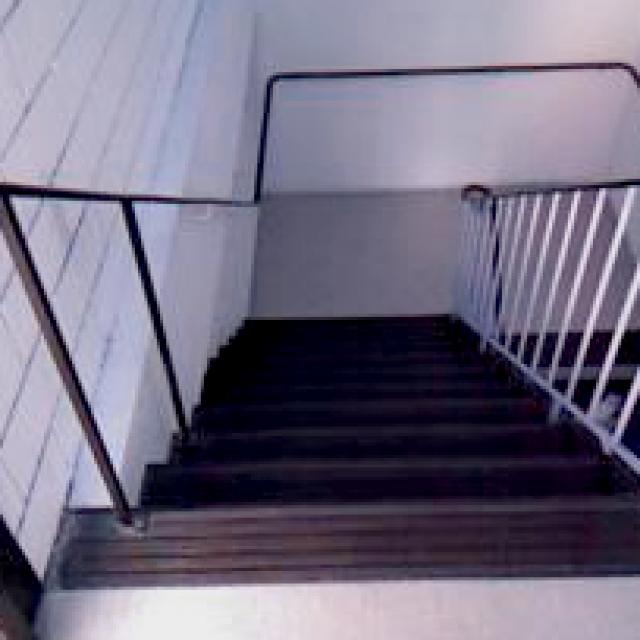downstair: (85, 415, 640, 600)
